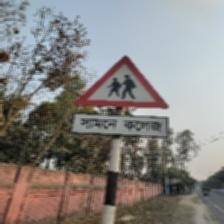College-in-front: (67, 48, 189, 166)
